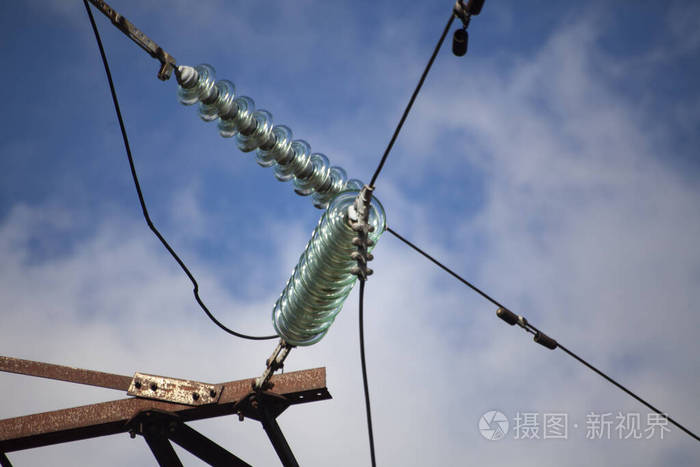insulator: (174, 64, 367, 204), (274, 184, 387, 348)
